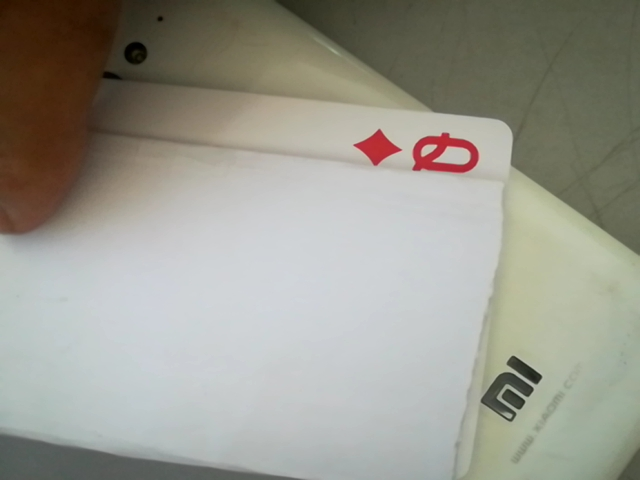fk q: (346, 123, 499, 180)
